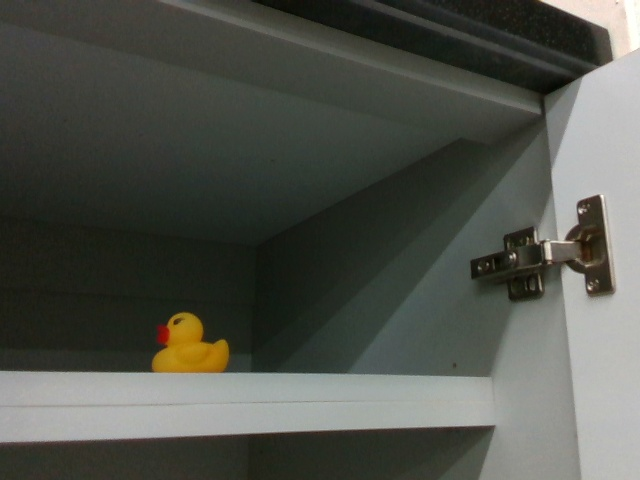duck: (145, 308, 235, 372)
